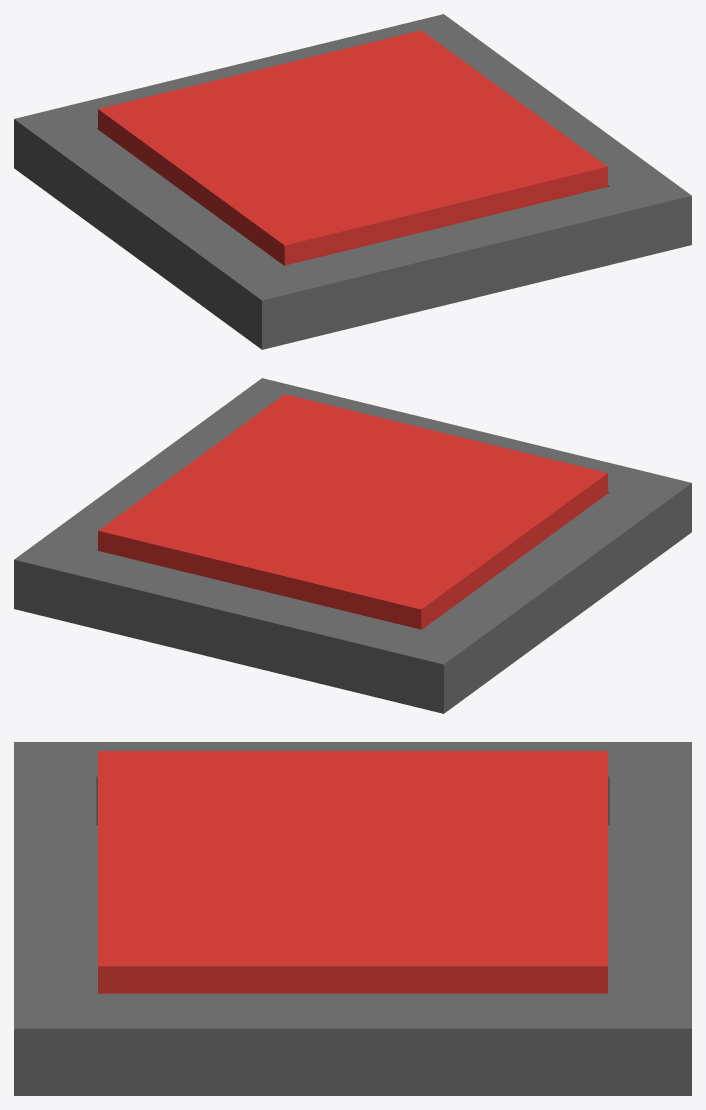
The model's file is Button.fbx.
3 renders of one model, top to bottom at view 1: azimuth 30°, elevation 25°; view 2: azimuth 150°, elevation 25°; view 3: azimuth 270°, elevation 25°, orthographic. The views are drawn at different scales.
Parts seen in each view (by area): view 1: Cube.001, Cube; view 2: Cube.001, Cube; view 3: Cube.001, Cube.
Boxes of the visible parts, x1,y1,x2,y2 form: Cube.001: (98,30,607,265); Cube: (14,14,691,349); Cube.001: (98,394,607,629); Cube: (14,378,691,713); Cube.001: (98,751,607,993); Cube: (14,742,691,1095).
Bounding box in the file's own units: 200 × 30.58 × 200.
